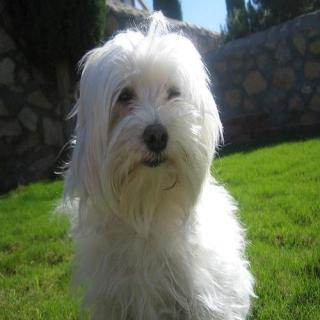dog: (70, 31, 216, 217)
nose: (140, 122, 170, 157)
